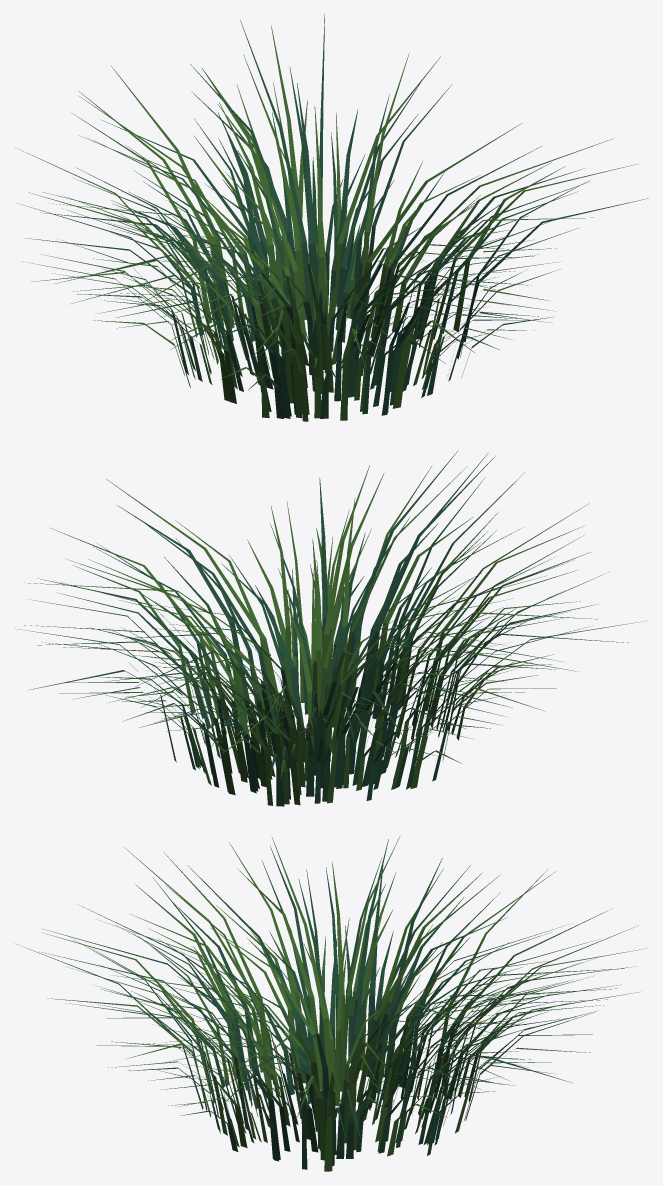
The model's file is shade_grass_v2.glb.
The picture shows the model from 3 angles, top to bottom: view 1: azimuth 30°, elevation 25°; view 2: azimuth 150°, elevation 25°; view 3: azimuth 270°, elevation 25°; orthographic projection. The views are drawn at different scales.
Visible parts, largest first — view 1: shade_grass_v2; view 2: shade_grass_v2; view 3: shade_grass_v2.
Boxes of the visible parts, box(x1,y1,x2,y2) form: shade_grass_v2: box(14, 14, 648, 421); shade_grass_v2: box(15, 450, 647, 806); shade_grass_v2: box(17, 835, 647, 1171).
Size of the model in its own units: 0.9022 by 0.3428 by 0.9285.
